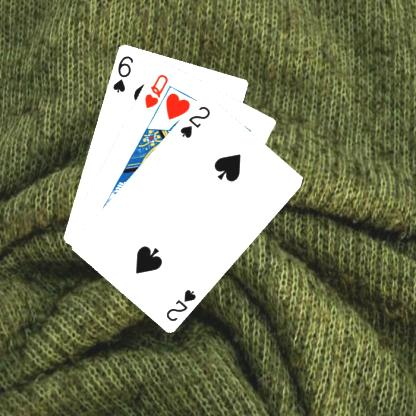2S: (177, 103, 212, 139), (164, 286, 198, 323)
6S: (110, 53, 134, 94)
QH: (142, 71, 170, 109)
